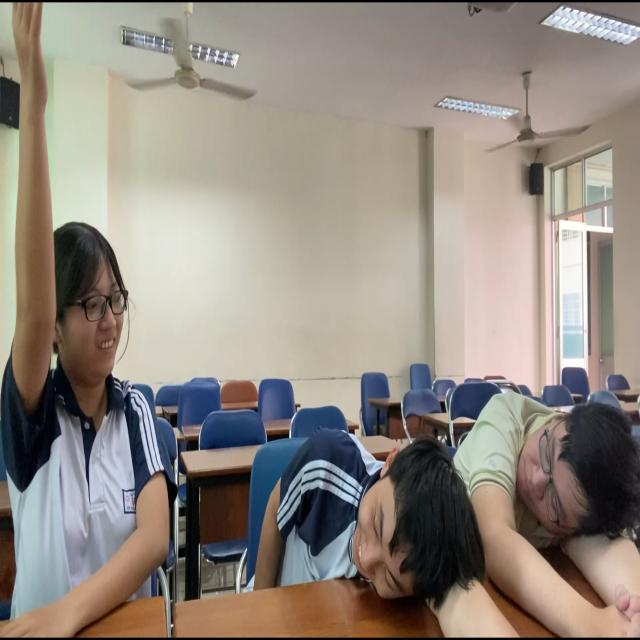raise_hand: (1, 1, 176, 640)
sleep: (246, 398, 476, 629), (461, 367, 640, 594)
